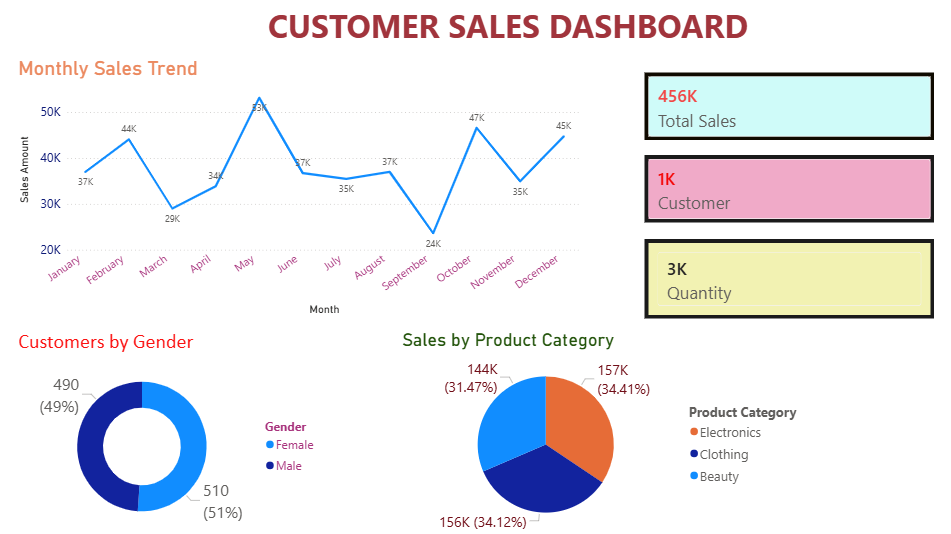

Layout of this report page (visuals, bound fields, positions):
{"tool":"powerbi","page":{"name":"Page 1","canvas":[1280,720],"ordinal":0},"visuals":[{"type":"donutChart","title":"Customers by Gender","fields":{"Category":["retail_sales_dataset.Gender"],"Y":["CountNonNull(retail_sales_dataset.Gender)"]},"box":[22,440,414,280],"z":0},{"type":"pieChart","title":"Sales by Product Category","fields":{"Category":["retail_sales_dataset.Product Category"],"Y":["Sum(retail_sales_dataset.Total Amount)"]},"box":[534,440,550,280],"z":1000},{"type":"lineChart","title":"Monthly Sales Trend","fields":{"Category":["retail_sales_dataset.Date.Variation.Date Hierarchy.Month"],"Y":["Sum(retail_sales_dataset.Total Amount)"]},"box":[22,76,760,350],"z":2000},{"type":"textbox","box":[296,0,788,76],"z":3000},{"type":"cardVisual","fields":{"Data":["Sum(retail_sales_dataset.Total Amount)"]},"box":[862,98,386,90],"z":4000},{"type":"cardVisual","fields":{"Data":["CountNonNull(retail_sales_dataset.Customer ID)"]},"box":[862,208,386,90],"z":5000},{"type":"cardVisual","fields":{"Data":["Sum(retail_sales_dataset.Quantity)"]},"box":[862,320,386,106],"z":6000}]}

Visuals, with their boxes in screenshot pixels (x1, y1, x2, y2), scaled from the page's 1280x720 canvas onto the 951x534 screenshot:
"Customers by Gender" donutChart: x1=16, y1=326, x2=324, y2=533
"Sales by Product Category" pieChart: x1=397, y1=326, x2=805, y2=533
"Monthly Sales Trend" lineChart: x1=16, y1=56, x2=581, y2=316
textbox: x1=220, y1=0, x2=805, y2=56
cardVisual - Sum(retail_sales_dataset.Total Amount): x1=640, y1=73, x2=927, y2=139
cardVisual - CountNonNull(retail_sales_dataset.Customer ID): x1=640, y1=154, x2=927, y2=221
cardVisual - Sum(retail_sales_dataset.Quantity): x1=640, y1=237, x2=927, y2=316
